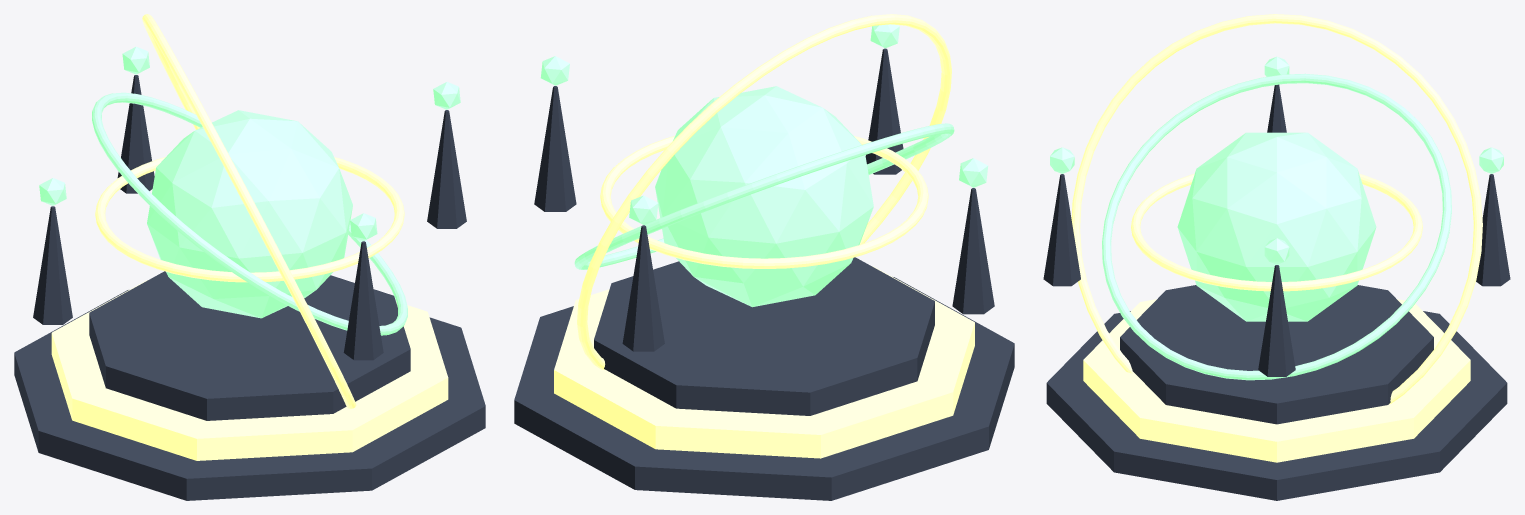
File: gpu-blender-v41.glb
The picture shows the model from 3 angles, left to right: view 1: azimuth 30°, elevation 25°; view 2: azimuth 150°, elevation 25°; view 3: azimuth 270°, elevation 25°; orthographic projection. The views are drawn at different scales.
Visible parts, largest first — view 1: Cylinder.002, SovereignCore_mcp-lens, Cylinder, Cylinder.001, Torus.001, Torus.002, Torus, Cone.003, Cone, Cone.002, Cone.001, Icosphere.002 (+3 smaller); view 2: Cylinder.002, SovereignCore_mcp-lens, Cylinder, Cylinder.001, Torus.002, Torus, Torus.001, Cone.002, Cone.001, Cone, Cone.003, Icosphere (+3 smaller); view 3: SovereignCore_mcp-lens, Cylinder.002, Cylinder, Cylinder.001, Torus.001, Torus.002, Torus, Cone.003, Cone, Cone.001, Cone.002, Icosphere (+2 smaller).
Part boxes in pixels (x1,y1,x2,y2): Cylinder.002: (89, 271, 410, 420); SovereignCore_mcp-lens: (147, 110, 352, 318); Cylinder: (14, 290, 485, 500); Cylinder.001: (51, 280, 448, 460); Torus.001: (92, 92, 407, 335); Torus.002: (142, 14, 356, 408); Torus: (95, 157, 404, 282); Cone.003: (343, 241, 383, 360); Cone: (427, 110, 466, 228); Cone.002: (33, 206, 72, 324); Cone.001: (117, 75, 154, 193); Icosphere.002: (39, 178, 66, 205); Cylinder.002: (594, 257, 934, 415); SovereignCore_mcp-lens: (655, 86, 873, 307); Cylinder: (514, 277, 1014, 500); Cylinder.001: (554, 266, 974, 458); Torus.002: (577, 14, 951, 369); Torus: (600, 136, 928, 268); Torus.001: (574, 123, 954, 269); Cone.002: (952, 188, 994, 314); Cone.001: (622, 225, 664, 351); Cone: (534, 86, 576, 211); Cone.003: (865, 48, 903, 174); Icosphere: (540, 56, 569, 85); SovereignCore_mcp-lens: (1177, 132, 1376, 321); Cylinder.002: (1120, 285, 1433, 424); Cylinder: (1046, 311, 1507, 500); Cylinder.001: (1083, 299, 1470, 462); Torus.001: (1102, 73, 1451, 380); Torus.002: (1071, 14, 1482, 403); Torus: (1131, 174, 1422, 291); Cone.003: (1043, 174, 1080, 286); Cone: (1258, 265, 1295, 376); Cone.001: (1476, 174, 1510, 286); Cone.002: (1267, 84, 1286, 132); Icosphere: (1264, 238, 1289, 264).
Bounding box in the file's own units: 4.41 × 3.72 × 4.46.
